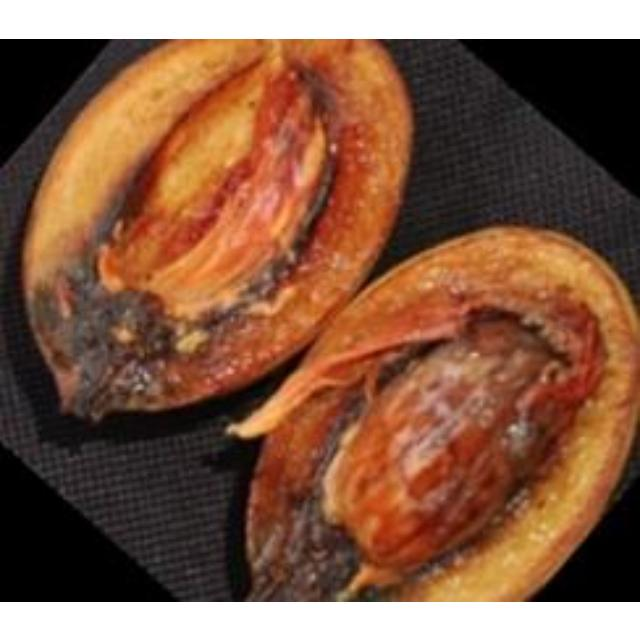damaged: (18, 38, 417, 429), (226, 224, 637, 599)
